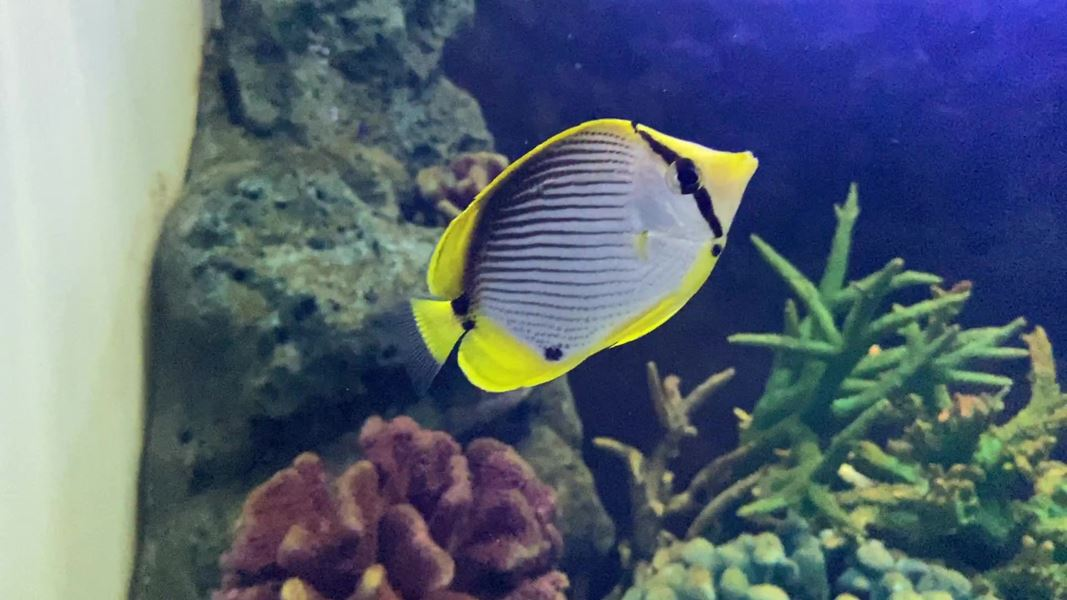Black-backed butterflyfish: (364, 103, 773, 410)
